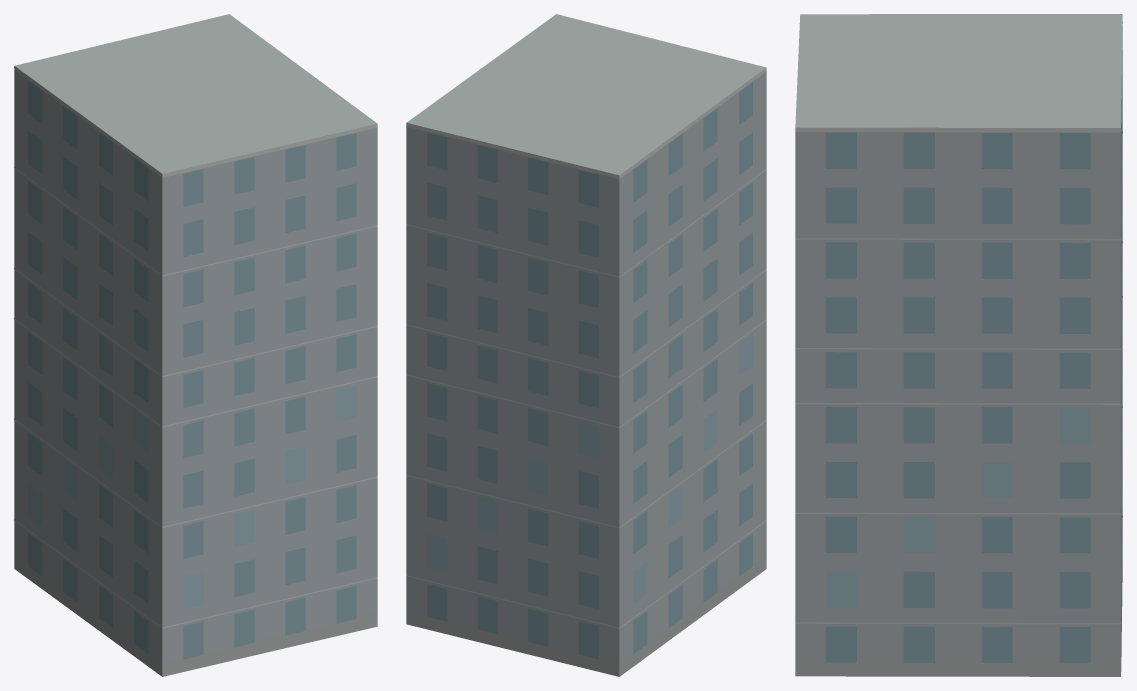
File: residential-e501e141-38ae-4c28-ab35-5e0092154157.glb
The picture shows the model from 3 angles, left to right: view 1: azimuth 30°, elevation 25°; view 2: azimuth 150°, elevation 25°; view 3: azimuth 270°, elevation 25°; orthographic projection. The views are drawn at different scales.
Visible parts, largest first — view 1: residential-e501e141-38ae-4c28-ab35-5e0092154157.tmp; view 2: residential-e501e141-38ae-4c28-ab35-5e0092154157.tmp; view 3: residential-e501e141-38ae-4c28-ab35-5e0092154157.tmp.
Part boxes in pixels (<box>): residential-e501e141-38ae-4c28-ab35-5e0092154157.tmp: <box>14,14,377,676</box>; residential-e501e141-38ae-4c28-ab35-5e0092154157.tmp: <box>406,14,766,676</box>; residential-e501e141-38ae-4c28-ab35-5e0092154157.tmp: <box>795,14,1122,676</box>.
Bounding box in the file's own units: 13.63 × 30.5 × 16.51.
